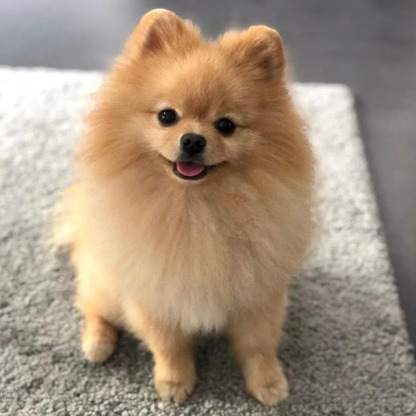Pomeranian: (40, 9, 327, 393)
